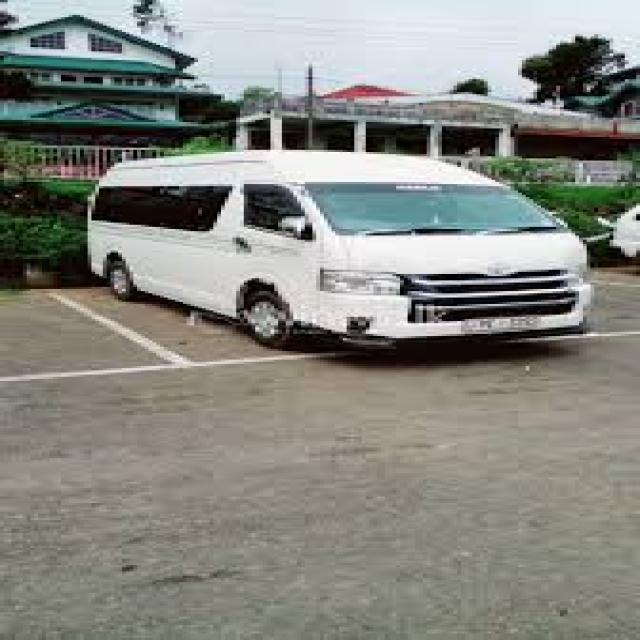van: (88, 118, 587, 349)
